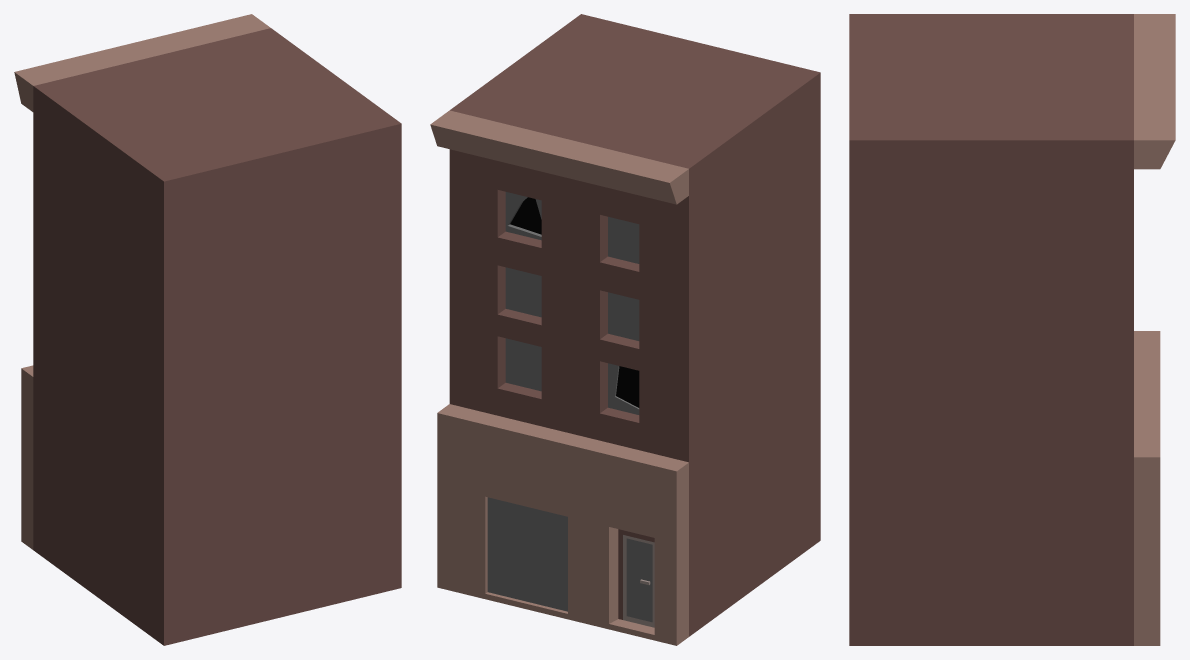
Rendered from Medium Building.fbx.
The picture shows the model from 3 angles, left to right: view 1: azimuth 30°, elevation 25°; view 2: azimuth 150°, elevation 25°; view 3: azimuth 270°, elevation 25°; orthographic projection. The views are drawn at different scales.
Parts seen in each view (by area): view 1: pCube1; view 2: pCube1; view 3: pCube1.
Boxes of the visible parts, left/top/right/bottom form: pCube1: left=14, top=14, right=401, bottom=645; pCube1: left=430, top=14, right=820, bottom=645; pCube1: left=849, top=14, right=1175, bottom=645.
Bounding box in the file's own units: 11.29 × 21.09 × 12.33.
